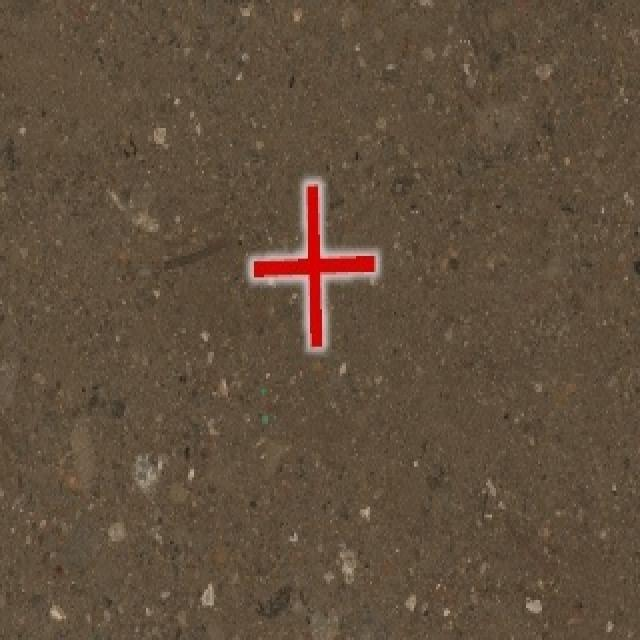x_marker: (251, 183, 375, 345)
